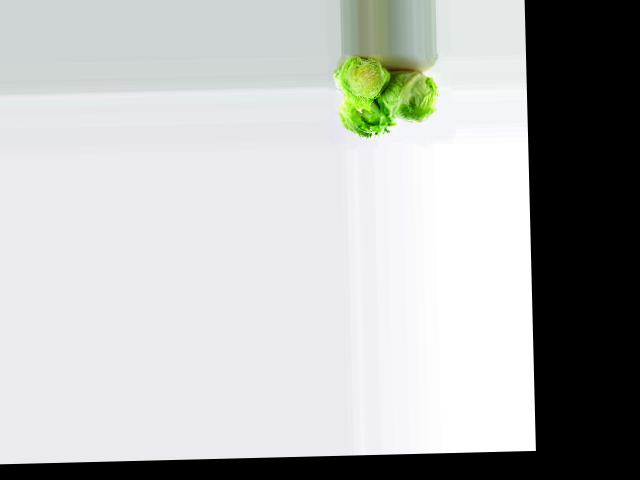lettuce: (337, 93, 399, 142)
